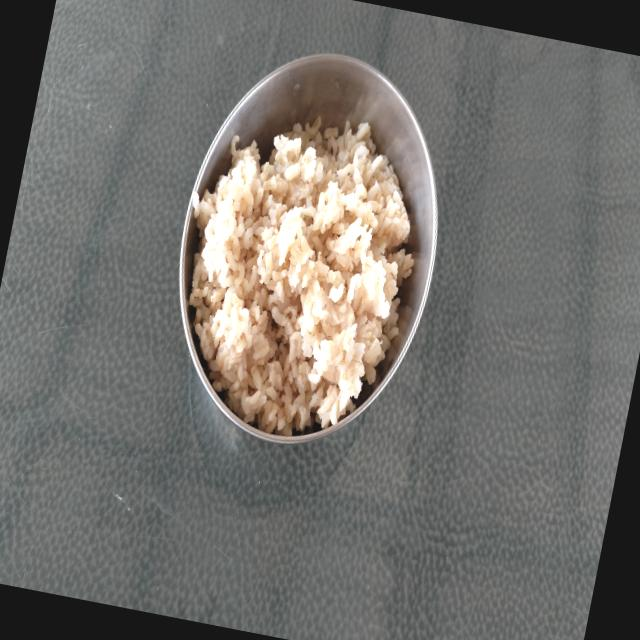brown-rice: (190, 118, 413, 437)
